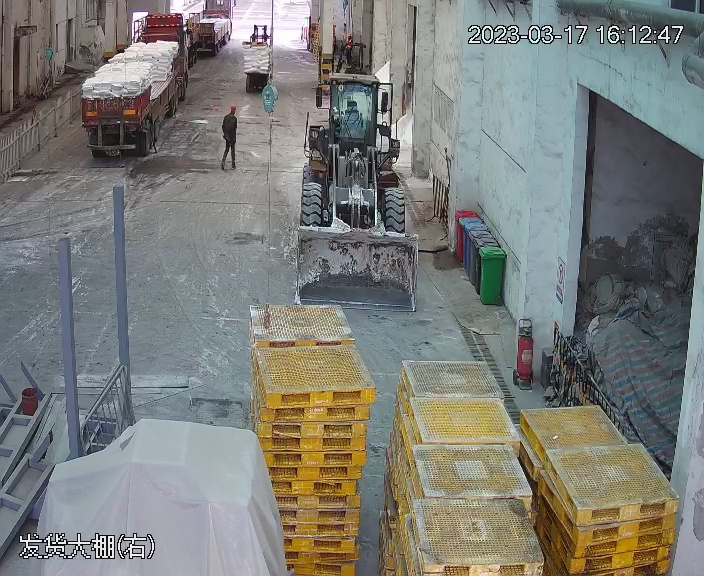head: (223, 104, 239, 124)
helmet: (223, 103, 239, 124), (227, 103, 236, 111)
people: (220, 103, 240, 171)
truck: (76, 7, 194, 162)
